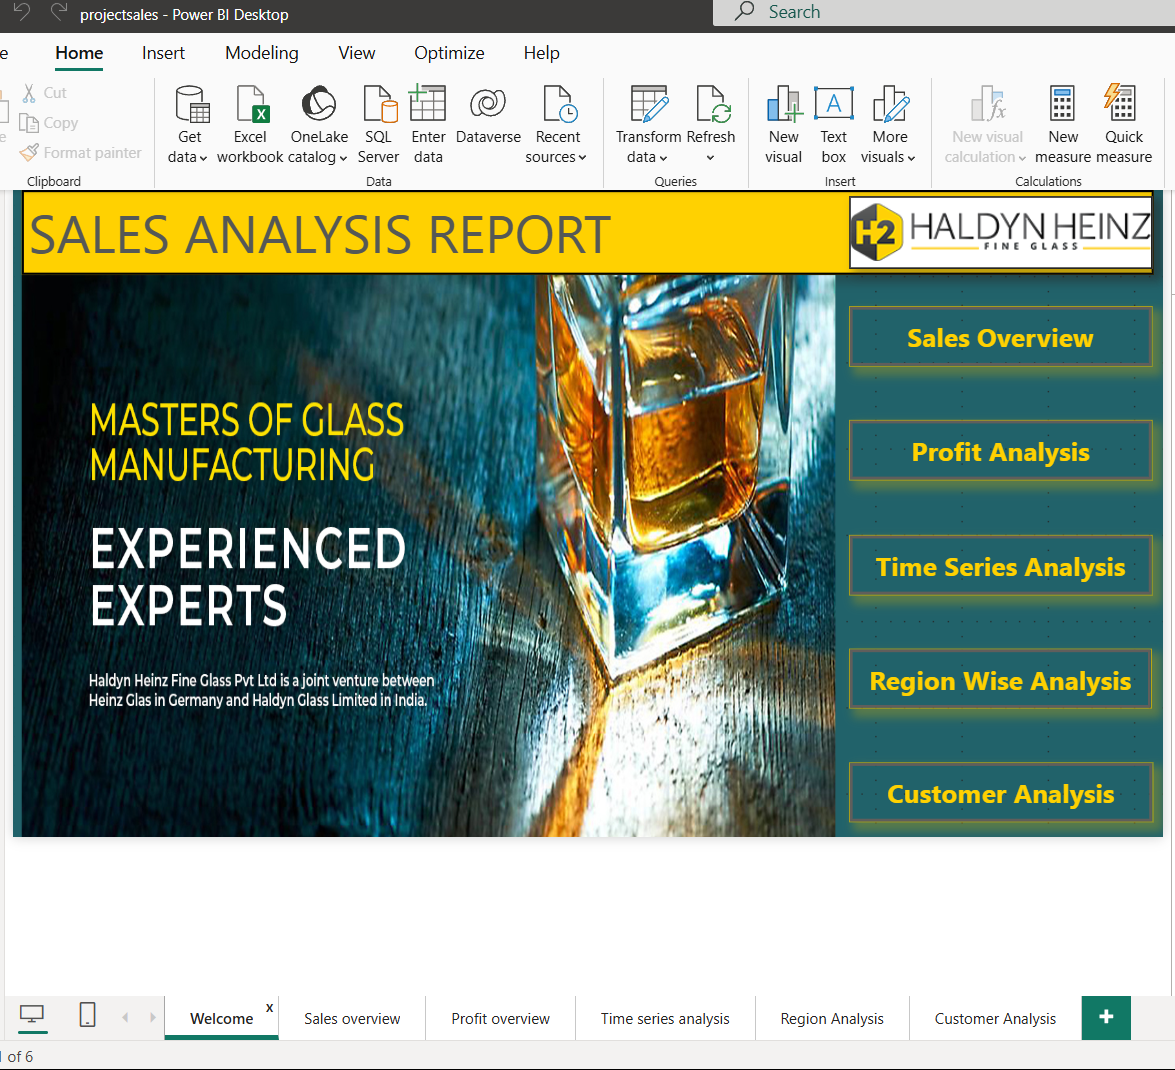

The dashboard page shown, as its layout file describes it:
{"tool":"powerbi","page":{"name":"Welcome","canvas":[1280,720],"ordinal":0},"visuals":[{"type":"textbox","box":[9.6,0,1259.7,94.7],"z":0},{"type":"image","box":[930.4,6.9,337.6,81],"z":1000},{"type":"image","box":[9.6,94.7,905.7,625.7],"z":2000},{"type":"actionButton","box":[930.4,129,337.6,67.2],"z":3000},{"type":"actionButton","box":[930.4,256.2,337.6,67.2],"z":4000},{"type":"actionButton","box":[930.4,383.3,337.6,67.2],"z":5000},{"type":"actionButton","box":[930.8,510.5,336.7,66.8],"z":6000},{"type":"actionButton","box":[930.8,637.2,338.1,66.8],"z":7000}]}

Visuals, with their boxes on the page's 1280x720 design canvas (x1, y1, x2, y2). These are canvas units, not pixel positions in the 1175x1070 screenshot, which may show the page scaled, cropped or inside an application window:
textbox: bbox=(10, 0, 1269, 95)
image: bbox=(930, 7, 1268, 88)
image: bbox=(10, 95, 915, 720)
actionButton: bbox=(930, 129, 1268, 196)
actionButton: bbox=(930, 256, 1268, 323)
actionButton: bbox=(930, 383, 1268, 450)
actionButton: bbox=(931, 510, 1268, 577)
actionButton: bbox=(931, 637, 1269, 704)
